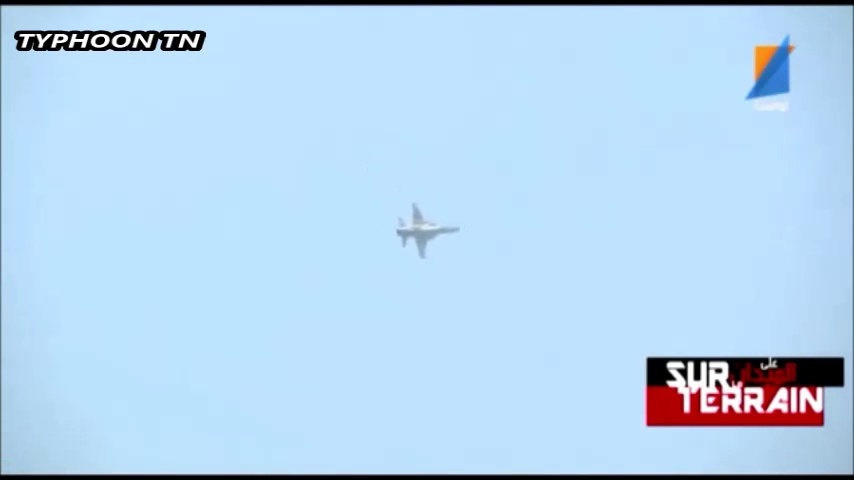Airplane: (393, 200, 459, 258)
